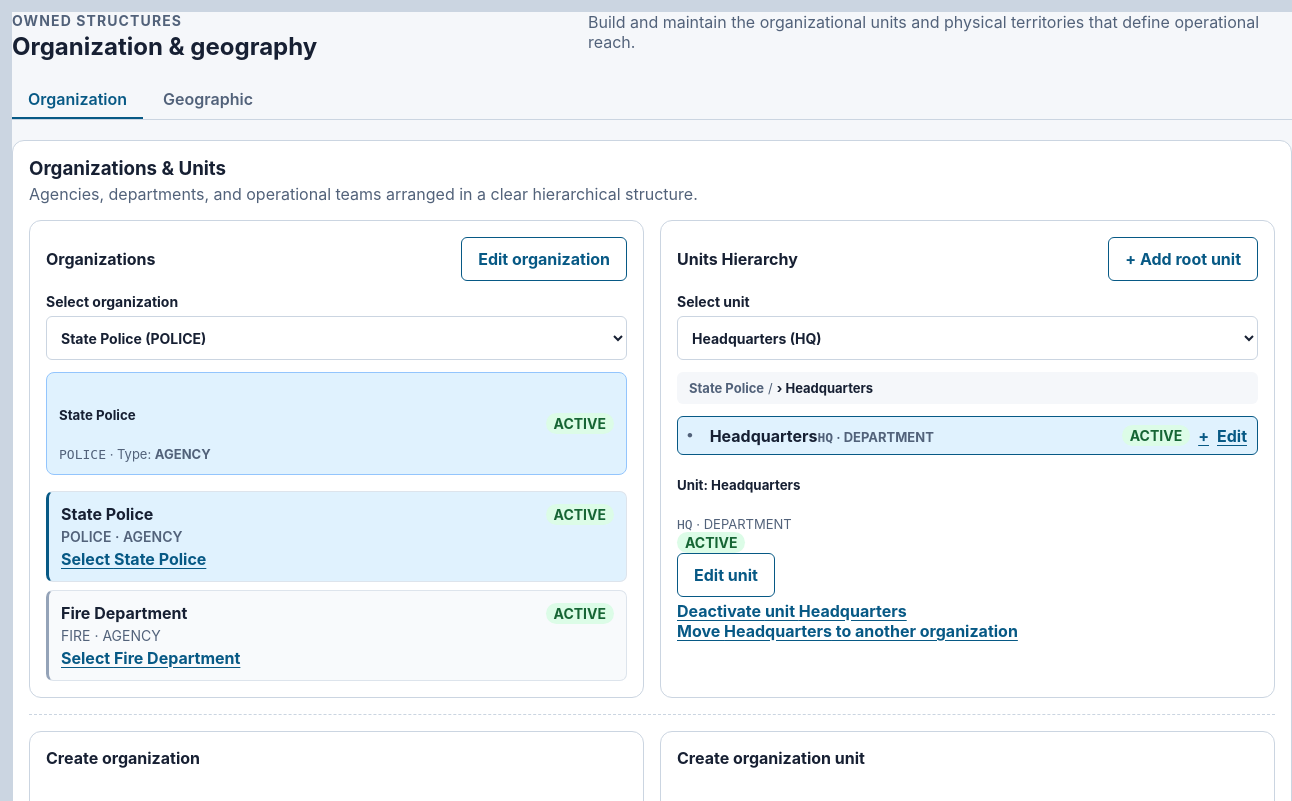
HierarchyPage supported creation › switches between the organization and geography tabs
Expected: the heading "Organizations & Units" is shown, left=29, top=157, right=226, bottom=180
Click the tab "Geographic" at (208,100), box left=147, top=81, right=269, bottom=119
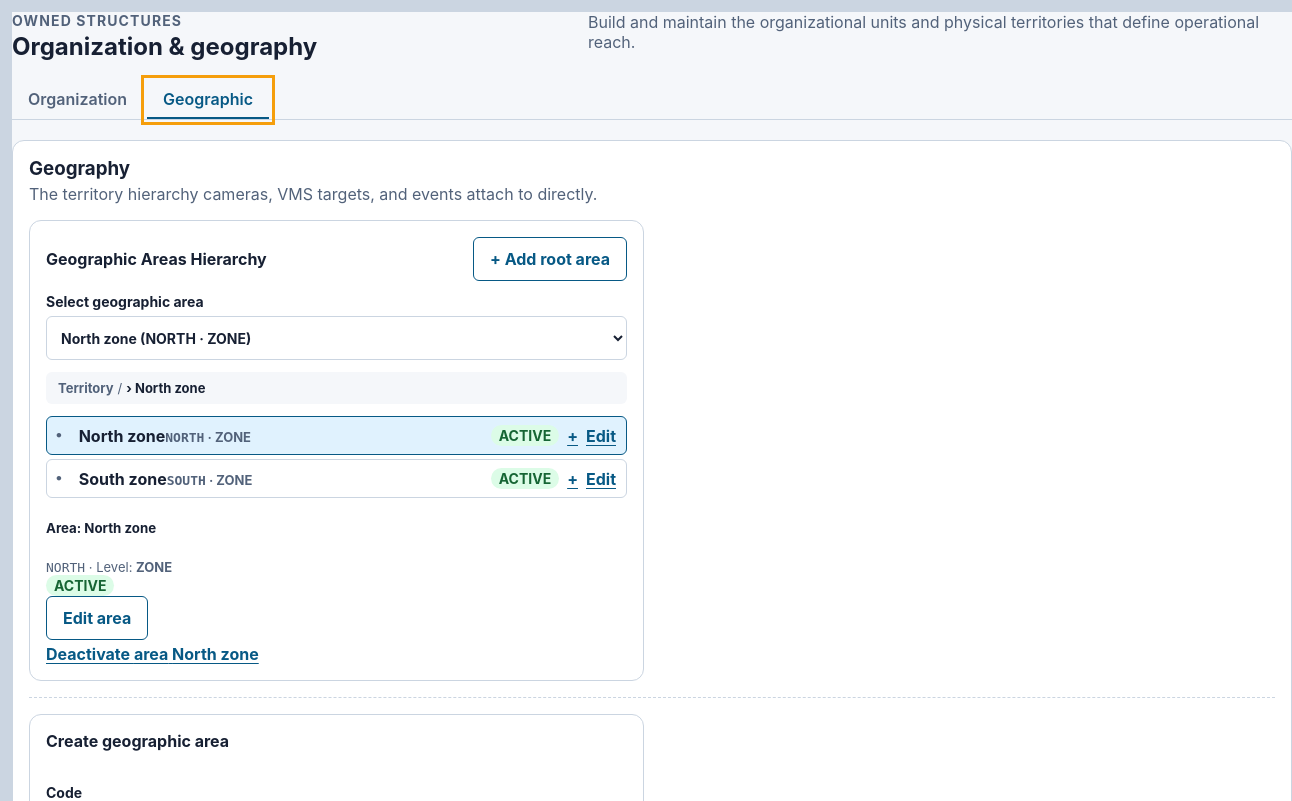
Expected: the heading "Geography" is shown, left=29, top=157, right=130, bottom=180
Expected: the heading "Organizations & Units" is gone
